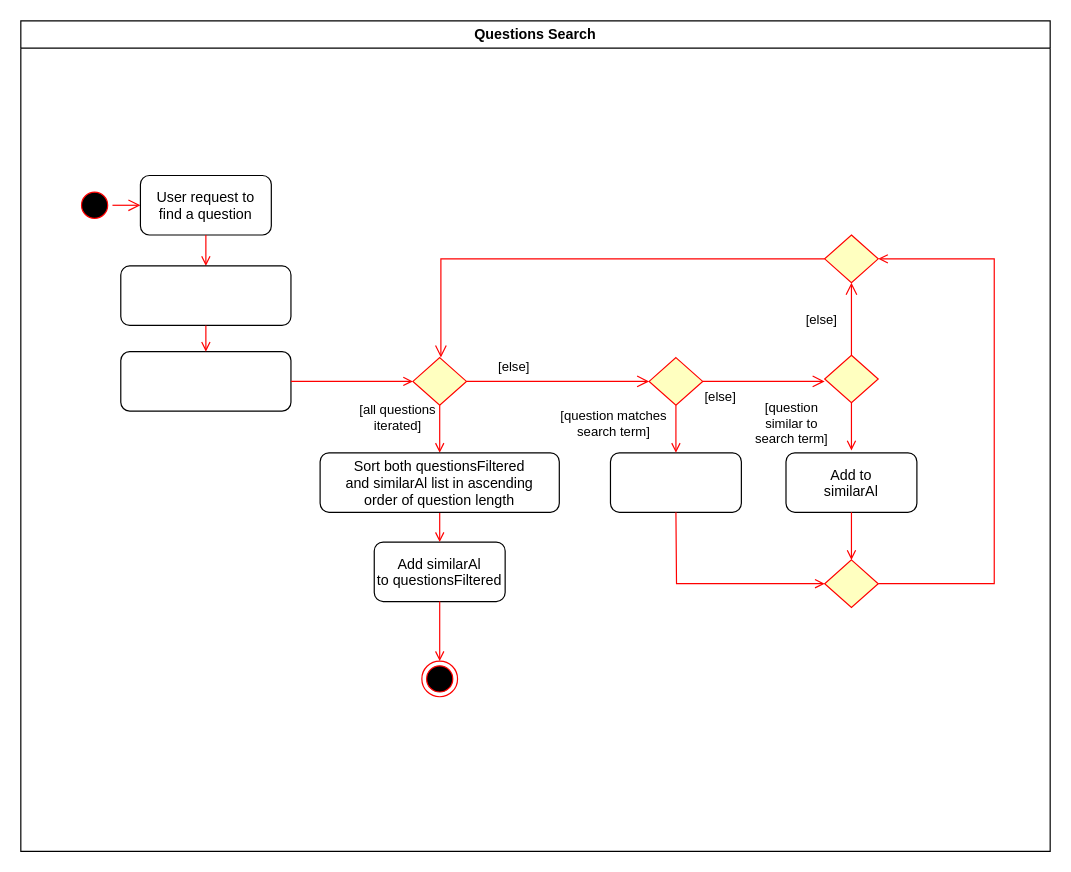
Image size: 1071x872. Some labels were removed from this diagram. The shapes that lost their labels are listed below. From the top down, each one's centre as x and y in pixels, then its label:
At (x=205, y=295): "Existing searched questions are cleared".
At (x=205, y=380): "Create a new list to store similar questions with name similarAl".
At (x=675, y=482): "Add to questionsFiltered".
